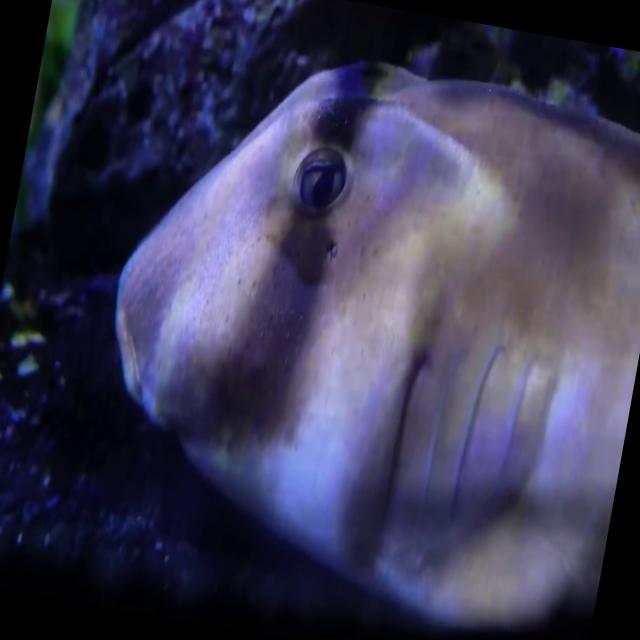fish: (62, 9, 640, 640)
